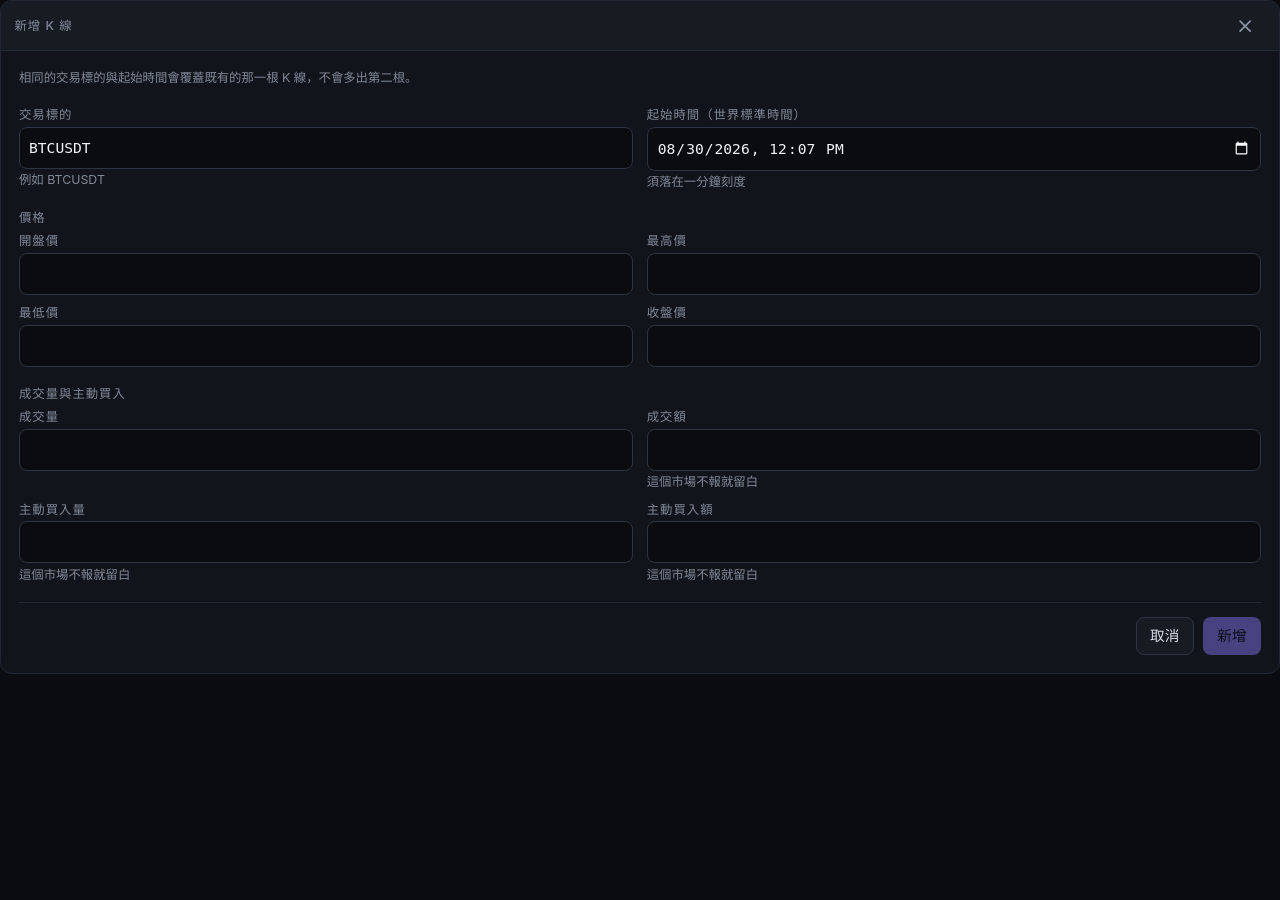
Test: KCandleEditorPanel › 新增 › 動過的那一格才說話
Type "一百" into the field with test id "form-open" at (326, 274), box [19, 253, 633, 295]
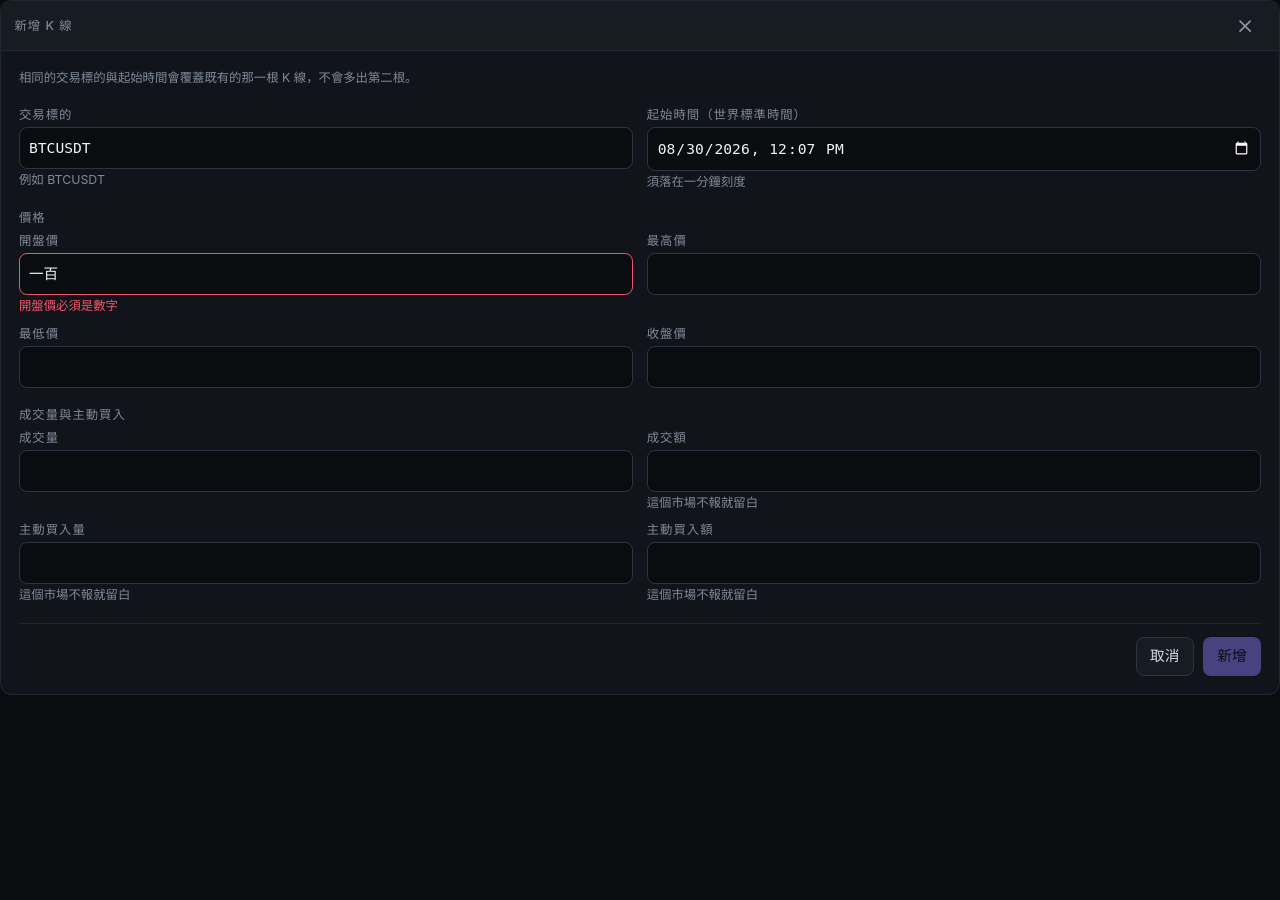
Check: the text with test id "field-error" reads "開盤價必須是數字", box [19, 298, 118, 313]
